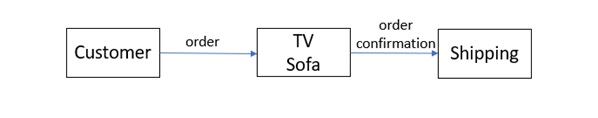arrow: (350, 46, 437, 58), (159, 47, 256, 57)
process: (63, 25, 162, 82), (435, 26, 534, 82), (254, 26, 353, 79)
text: (354, 18, 437, 49), (283, 31, 323, 72), (450, 43, 521, 65), (73, 42, 151, 61), (184, 34, 220, 49)
